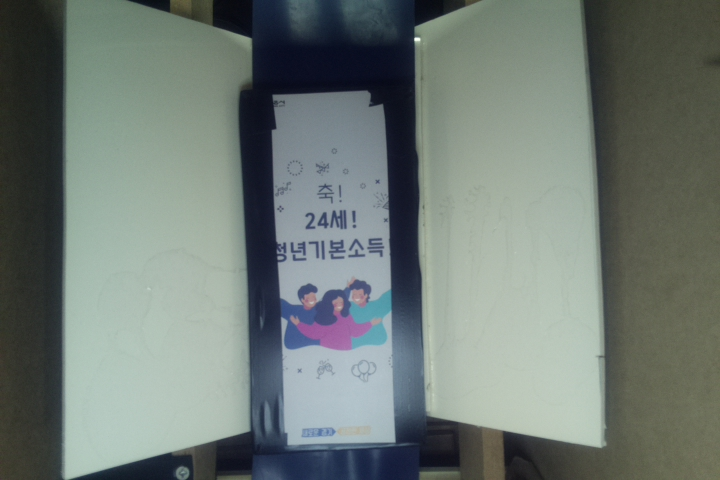book: (238, 75, 427, 457)
